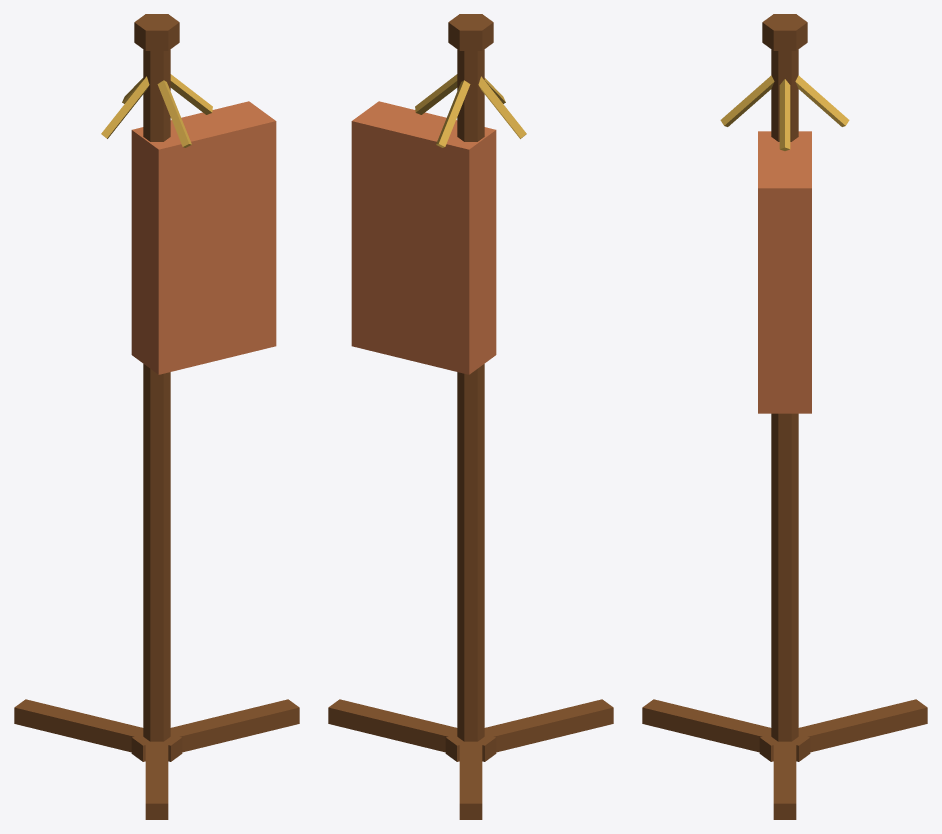
The model's file is coat_rack.glb.
The picture shows the model from 3 angles, left to right: view 1: azimuth 30°, elevation 25°; view 2: azimuth 150°, elevation 25°; view 3: azimuth 270°, elevation 25°; orthographic projection.
Parts seen in each view (by area): view 1: coat_rack; view 2: coat_rack; view 3: coat_rack.
Boxes of the visible parts, box(x1,y1,x2,y2) form: coat_rack: box(14, 14, 299, 819); coat_rack: box(328, 14, 613, 819); coat_rack: box(642, 14, 927, 819).
Size of the model in its own units: 0.5467 by 1.8 by 0.6312.
